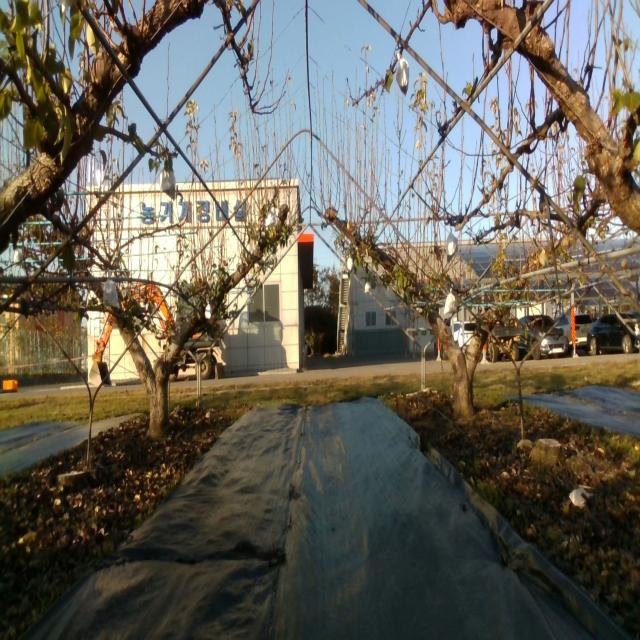pearbags: (394, 51, 410, 96), (101, 278, 121, 310), (160, 167, 176, 199), (446, 228, 458, 264), (444, 288, 458, 314)
